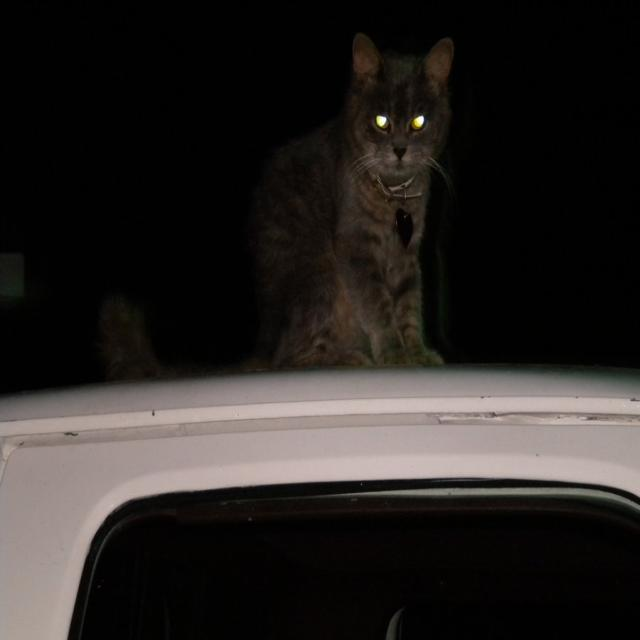Cat: (80, 27, 465, 410)
car: (0, 351, 640, 640)
